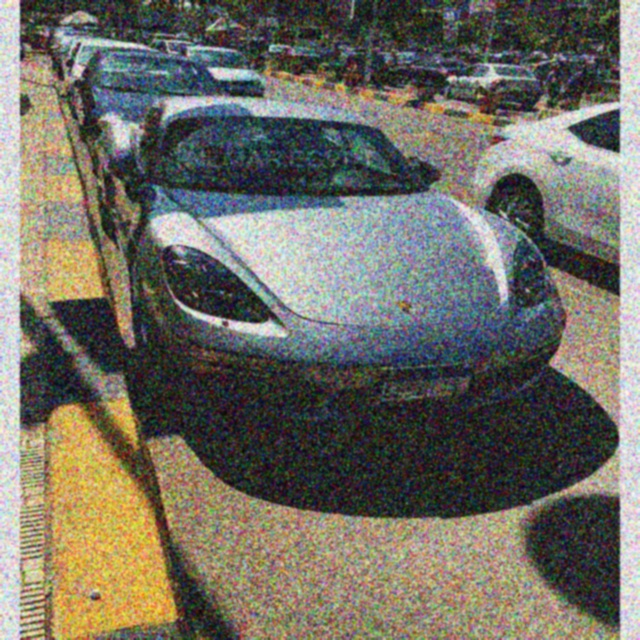License Plate: (375, 360, 479, 406)
